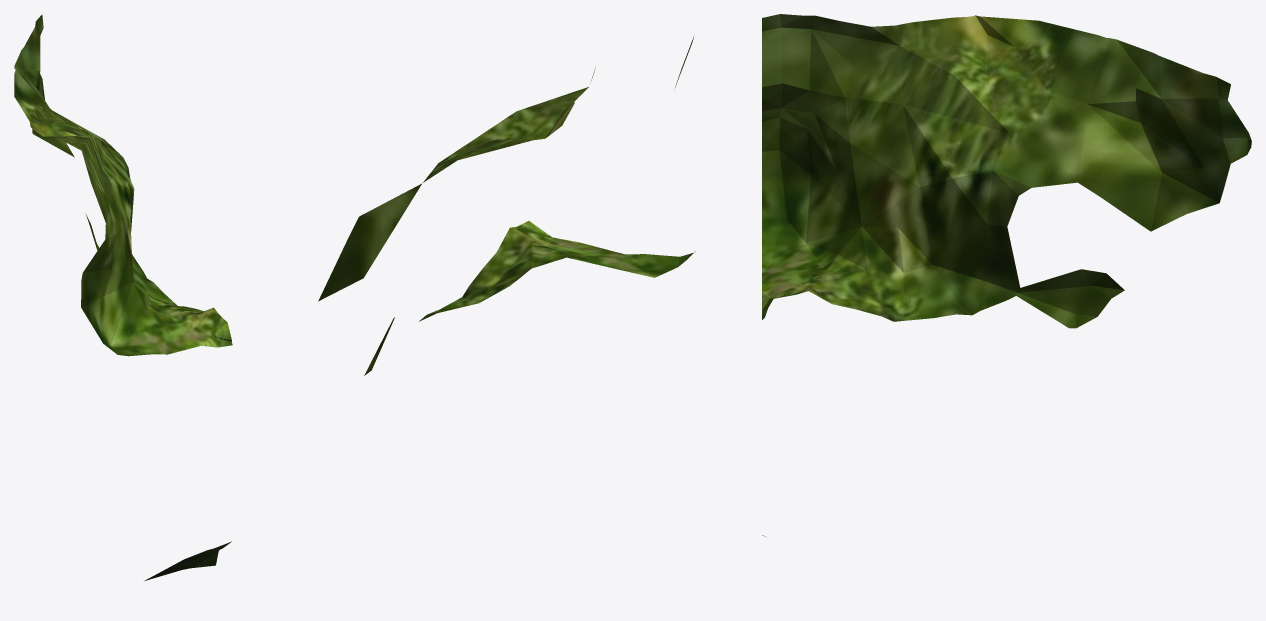
3 views of the same model, side by side, from view 1: azimuth 30°, elevation 25°; view 2: azimuth 150°, elevation 25°; view 3: azimuth 270°, elevation 25° (orthographic). The views are drawn at different scales.
Size of the model in its own units: 0.2988 by 0.8374 by 0.711.
Materials: 1 (1 with a texture image).
